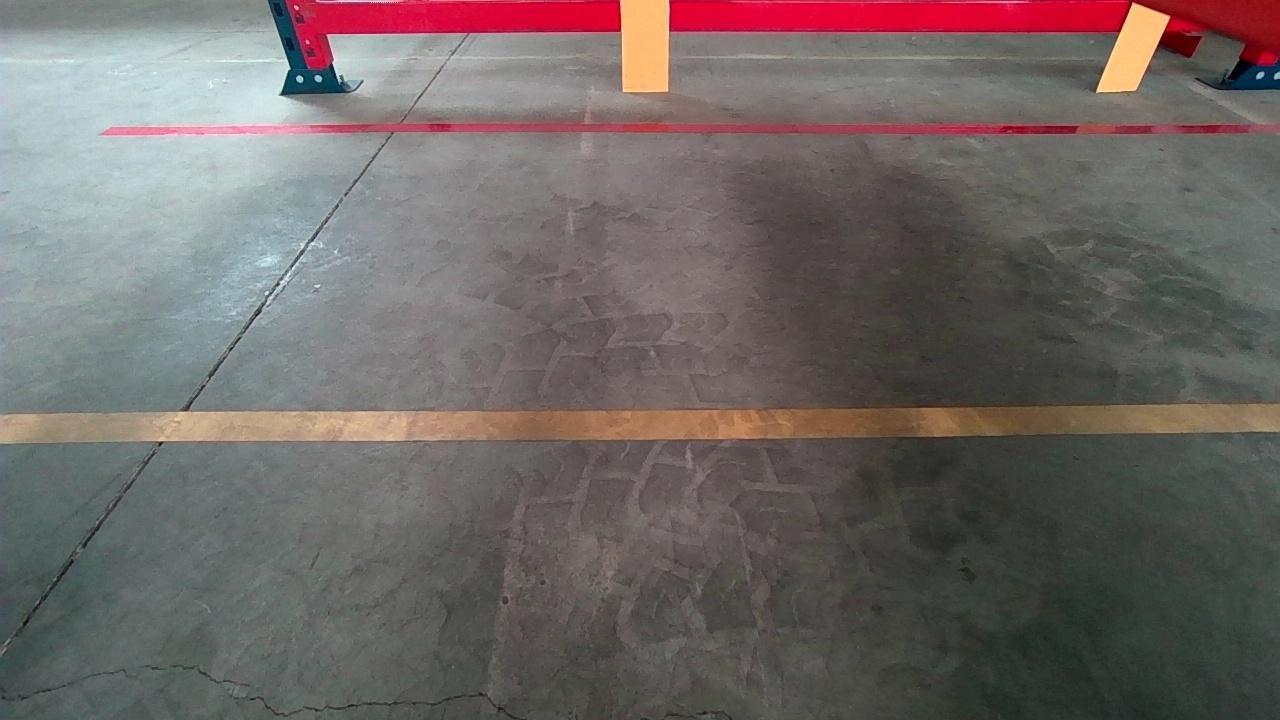h_rack: (317, 2, 1202, 34)
orange_strip: (1096, 1, 1172, 90), (621, 0, 670, 89)
red_line: (99, 125, 1280, 136)
yellow_line: (0, 401, 1280, 442)
